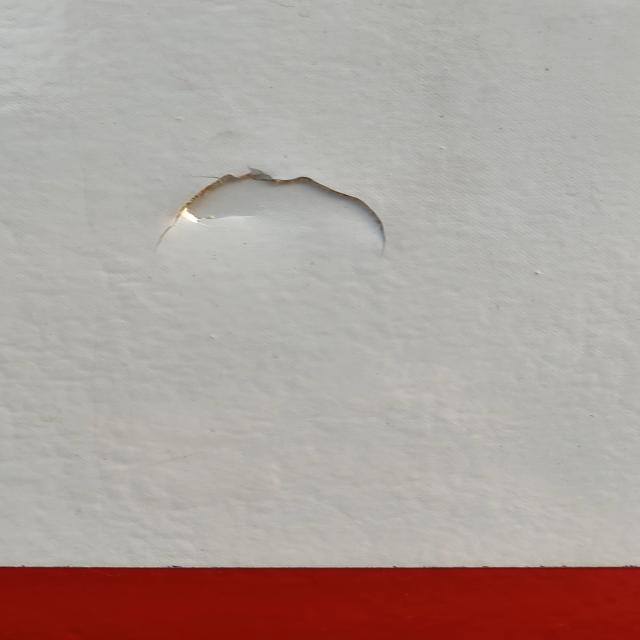Scratches: (139, 155, 408, 261)
